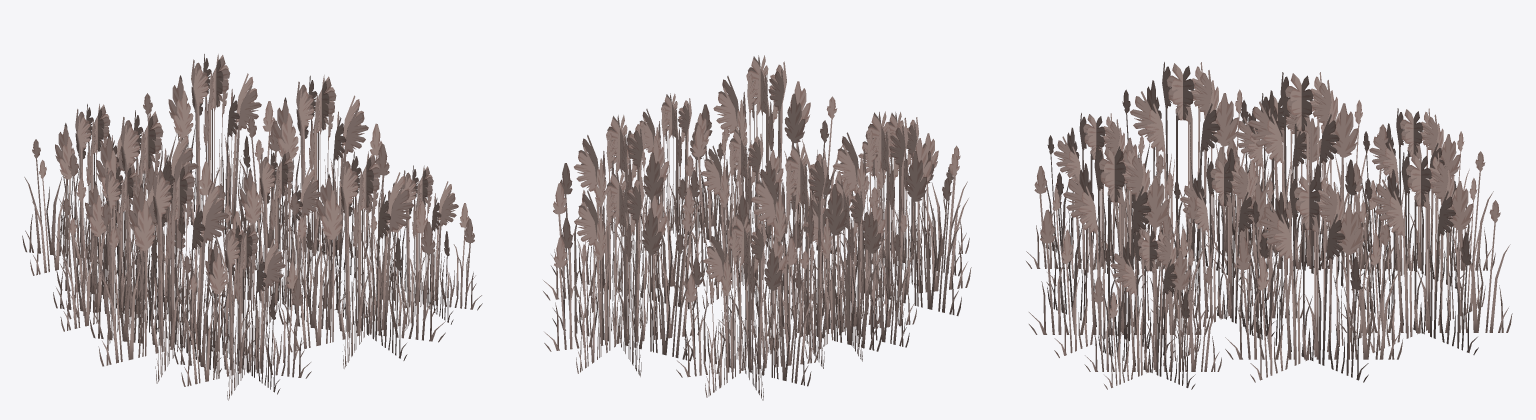
Rendered from SM_Sea_Reeds.fbx.
The picture shows the model from 3 angles, left to right: view 1: azimuth 30°, elevation 25°; view 2: azimuth 150°, elevation 25°; view 3: azimuth 270°, elevation 25°; orthographic projection. The views are drawn at different scales.
Visible parts, largest first — view 1: SM_Sea_Reeds; view 2: SM_Sea_Reeds; view 3: SM_Sea_Reeds.
Part boxes in pixels (x1=…): SM_Sea_Reeds: x1=22, y1=54, x2=482, y2=400; SM_Sea_Reeds: x1=543, y1=55, x2=971, y2=400; SM_Sea_Reeds: x1=1026, y1=62, x2=1512, y2=389.
Bounding box in the file's own units: 114 × 54.15 × 126.
